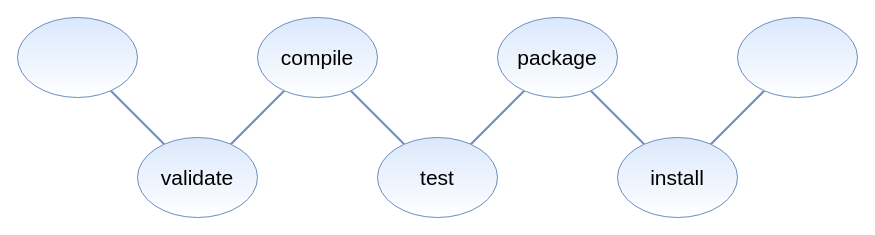
Some shapes in this 875 by 235 pixel diagram are drawn without their labels. Here are the shapes that lost their labels. From the top down, the centre of each, then its label:
the point at 77,57: clean
the point at 797,57: deploy
